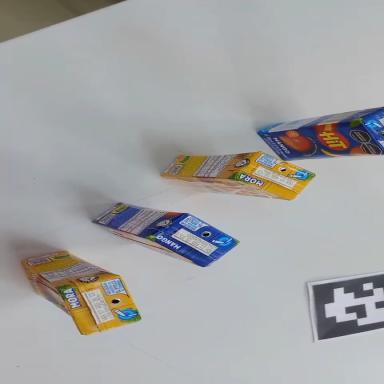HIT-MANGO: (92, 177, 240, 286), (257, 107, 384, 161)
HIT-MORA: (12, 222, 152, 357), (161, 148, 315, 200)
cara_F: (15, 257, 91, 338), (259, 119, 383, 163), (89, 222, 206, 268), (164, 177, 290, 200)
